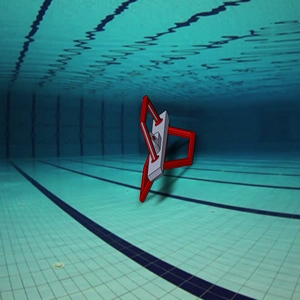submarine: (108, 87, 204, 206)
